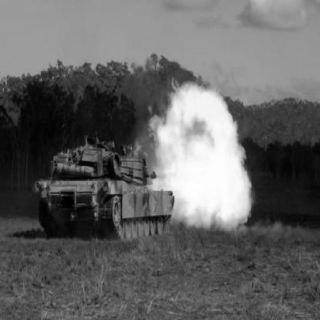Fire: (136, 78, 252, 226)
